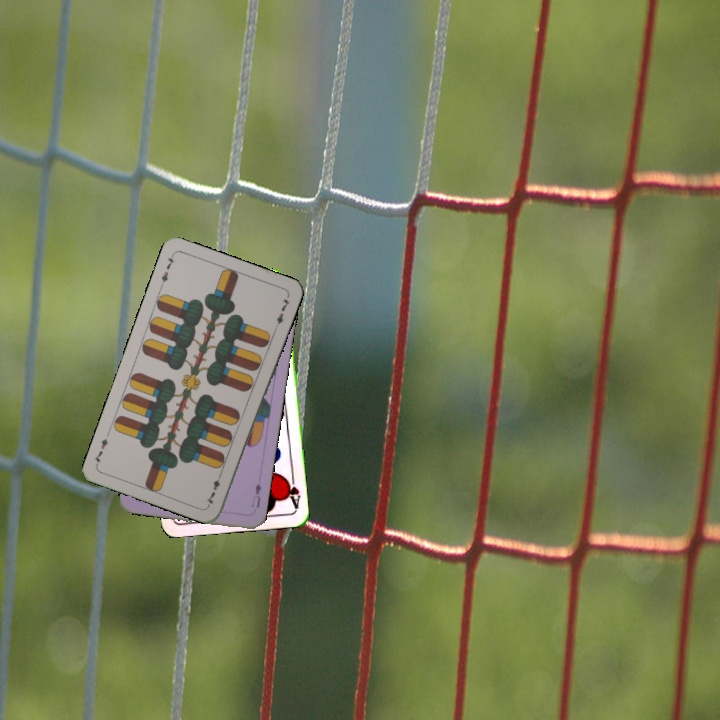E7: (202, 469, 224, 508), (156, 251, 178, 290)
EU: (248, 479, 264, 510)
HA: (282, 471, 303, 511)
